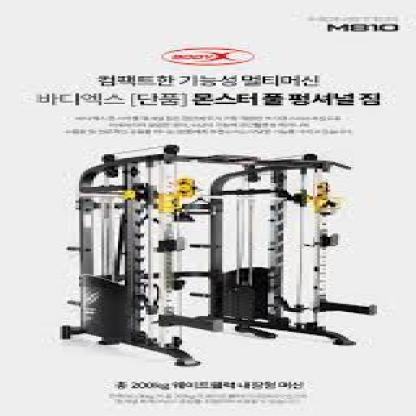smith machine: (61, 143, 380, 368)
